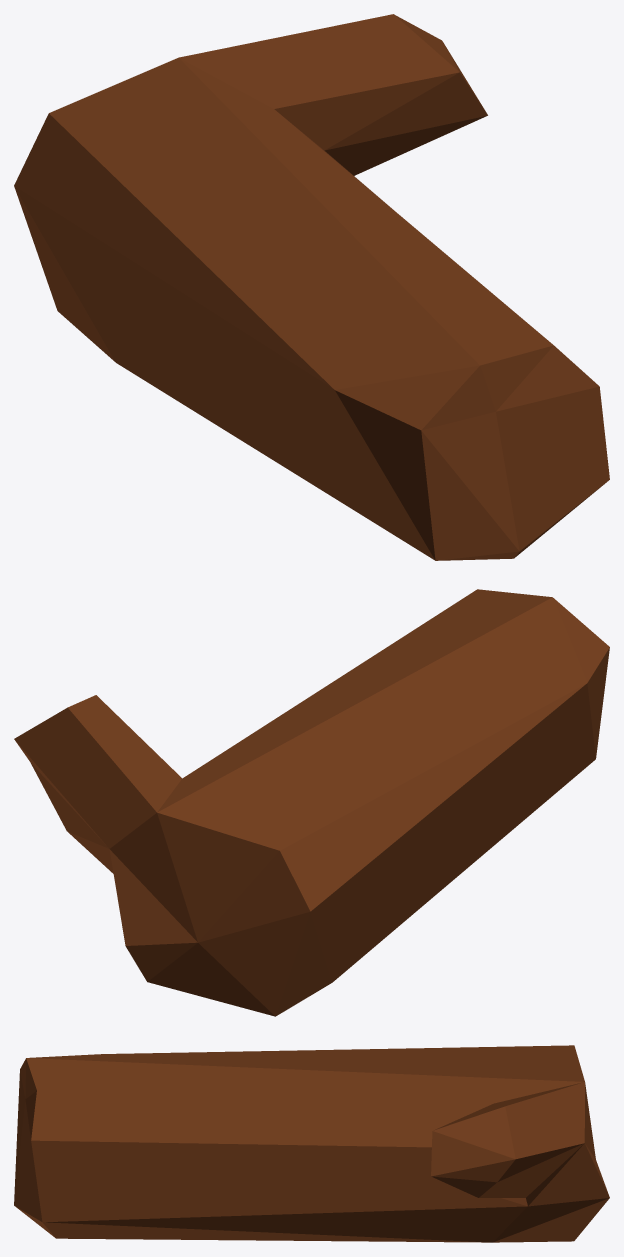
Rendered from branch01.fbx.
3 views of the same model, one above another, from view 1: azimuth 30°, elevation 25°; view 2: azimuth 150°, elevation 25°; view 3: azimuth 270°, elevation 25° (orthographic). The views are drawn at different scales.
Parts seen in each view (by area): view 1: branch01; view 2: branch01; view 3: branch01.
Part boxes in pixels (x1=…): branch01: x1=14, y1=14, x2=609, y2=560; branch01: x1=14, y1=589, x2=609, y2=1016; branch01: x1=14, y1=1045, x2=609, y2=1242.
Size of the model in its own units: 0.3168 by 0.2174 by 0.5738.
